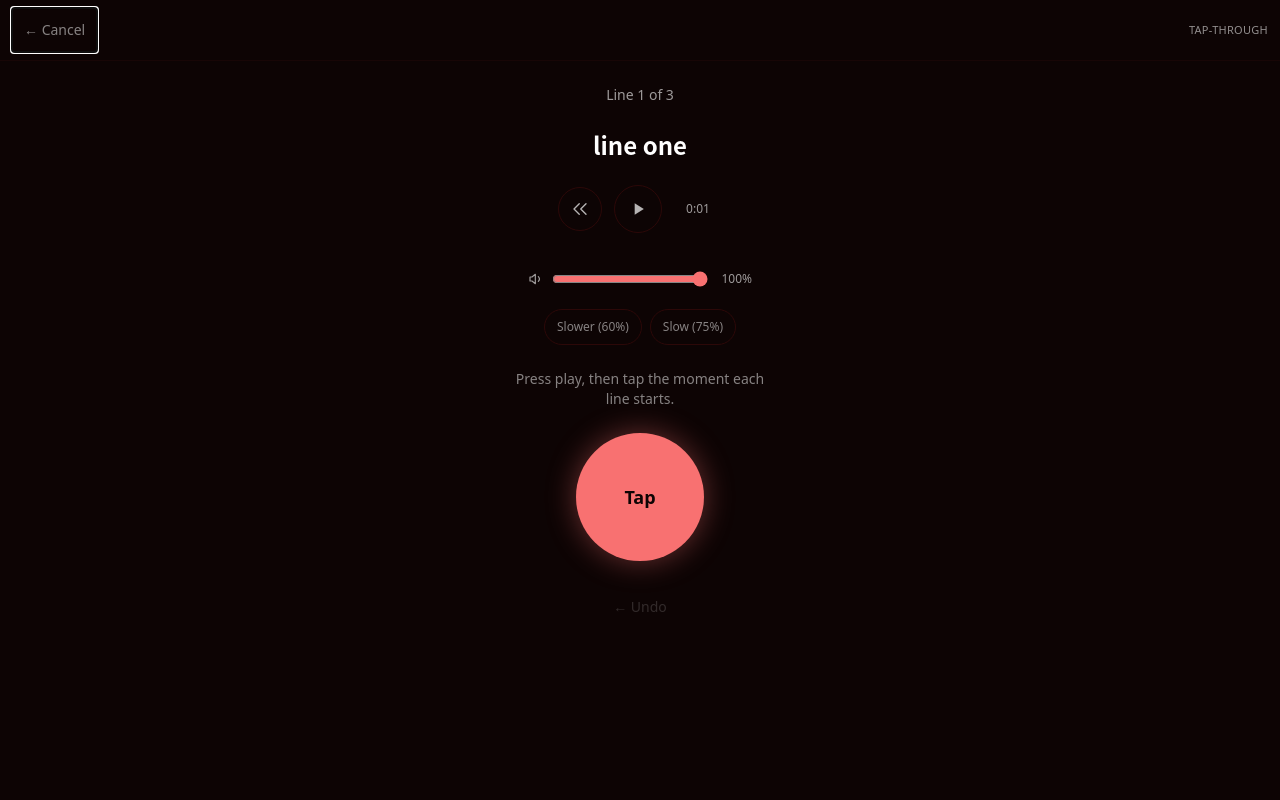
Scenario: TapSyncEditor — recent taps › labels every recent tap, including the first two
Click the button with aria-label "Mark line start": (640, 497) [576, 433, 704, 561]
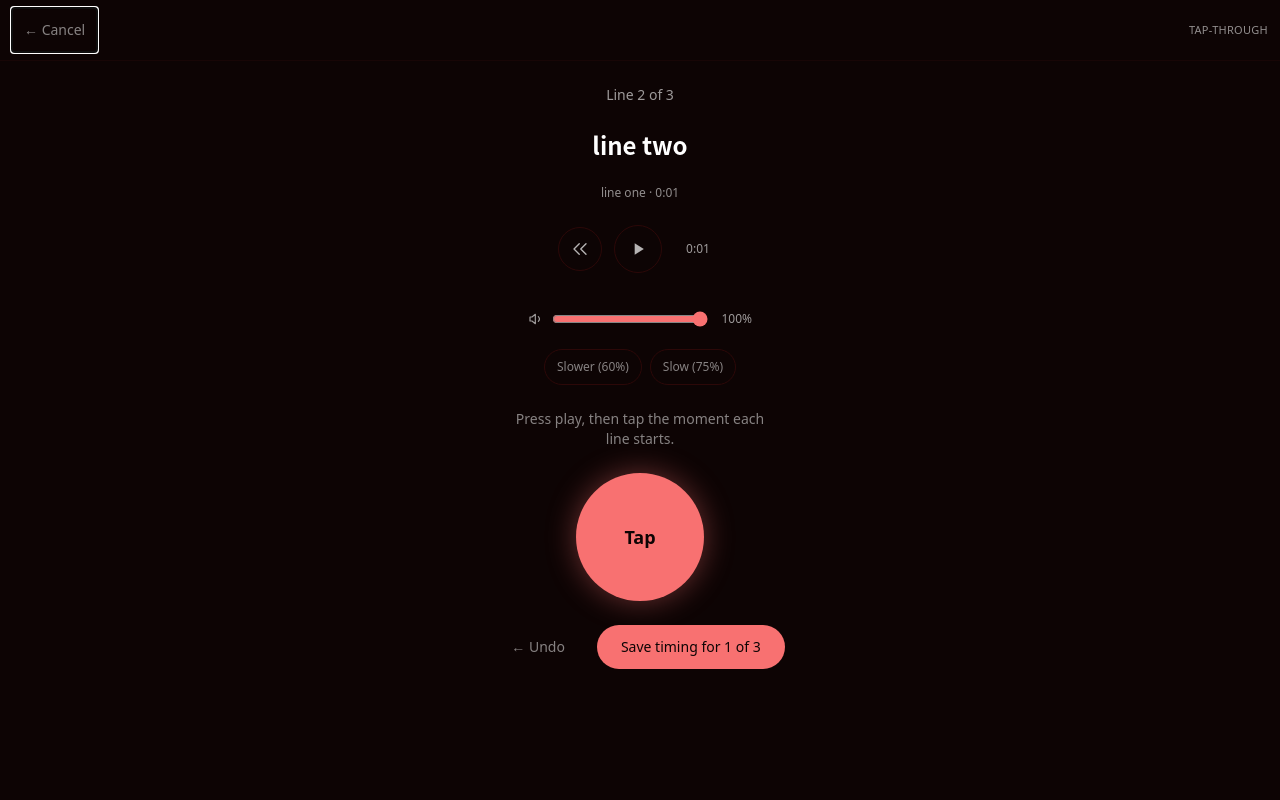
Click the button with aria-label "Mark line start": (640, 537) [576, 473, 704, 601]
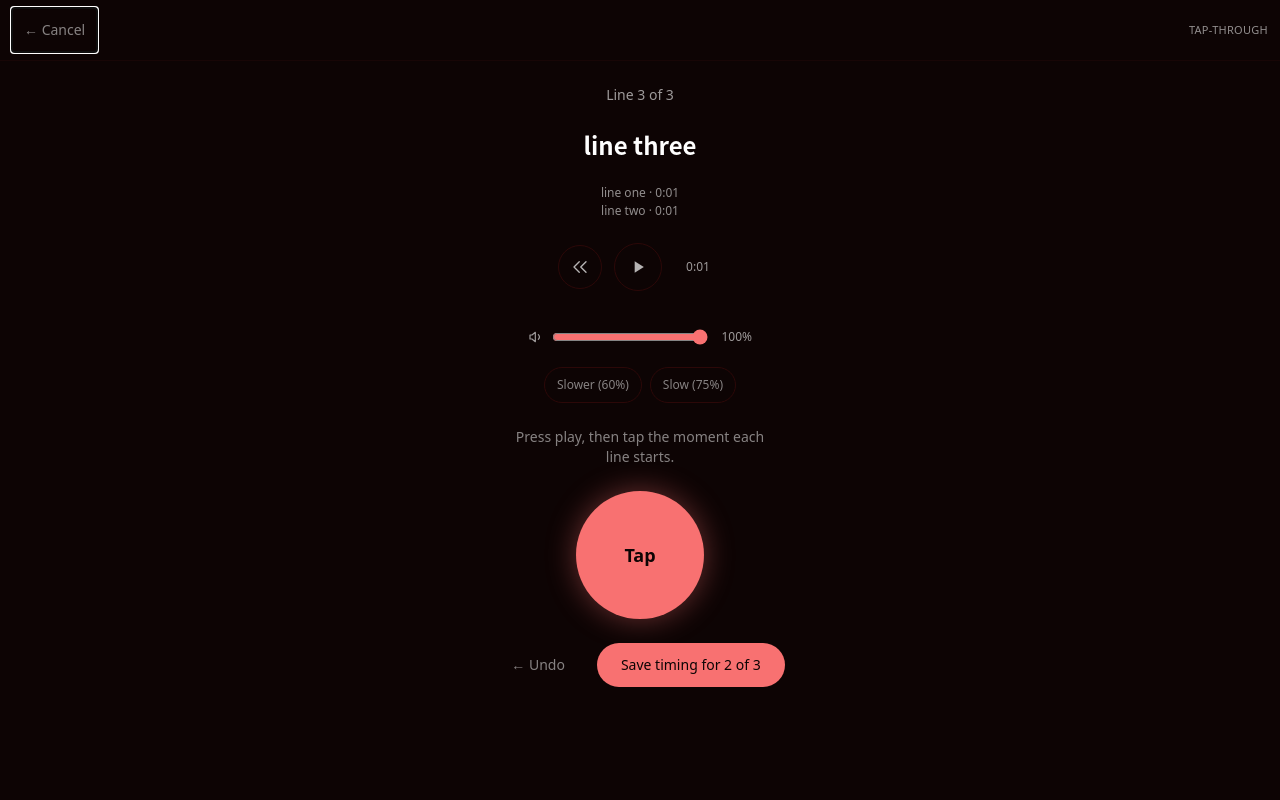
expect the text "line one · 0:01" is shown: met, box [601, 185, 679, 201]
expect the text "line two · 0:01" is shown: met, box [601, 203, 679, 219]
